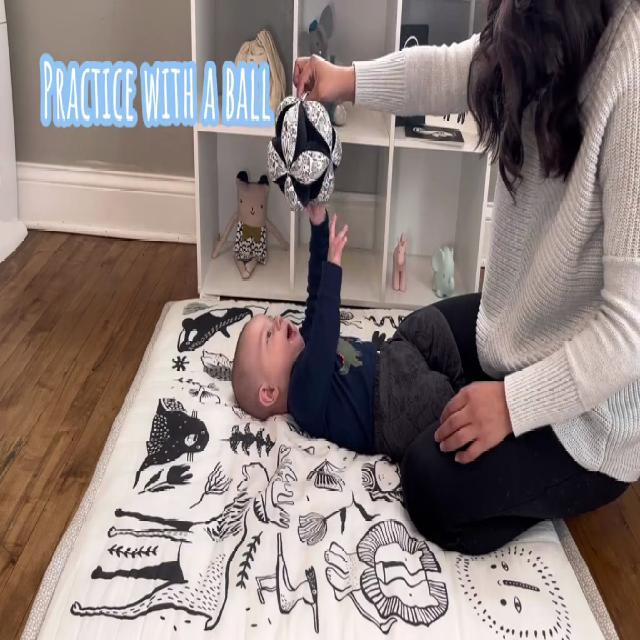baby: (232, 196, 466, 465)
